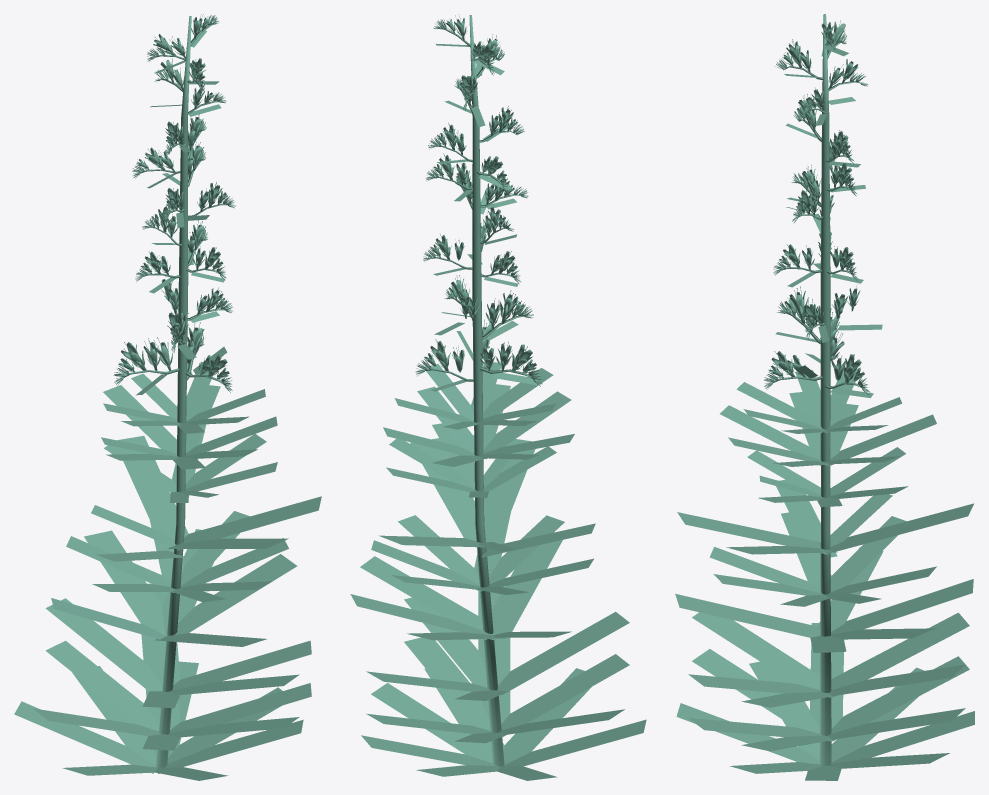
Rendered from SM_Echium_vulgare.fbx.
3 views of the same model, side by side, from view 1: azimuth 30°, elevation 25°; view 2: azimuth 150°, elevation 25°; view 3: azimuth 270°, elevation 25° (orthographic). The views are drawn at different scales.
Visible parts, largest first — view 1: Echium_vulgare; view 2: Echium_vulgare; view 3: Echium_vulgare.
Part boxes in pixels (bbox=[...]): Echium_vulgare: bbox=[14, 14, 321, 780]; Echium_vulgare: bbox=[350, 14, 646, 780]; Echium_vulgare: bbox=[675, 14, 974, 780].
Bounding box in the file's own units: 22.89 × 64.78 × 22.84.
